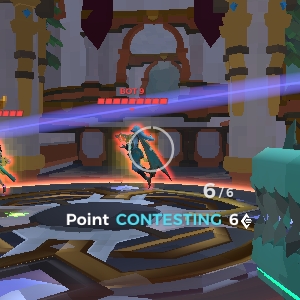model: (109, 113, 167, 194)
